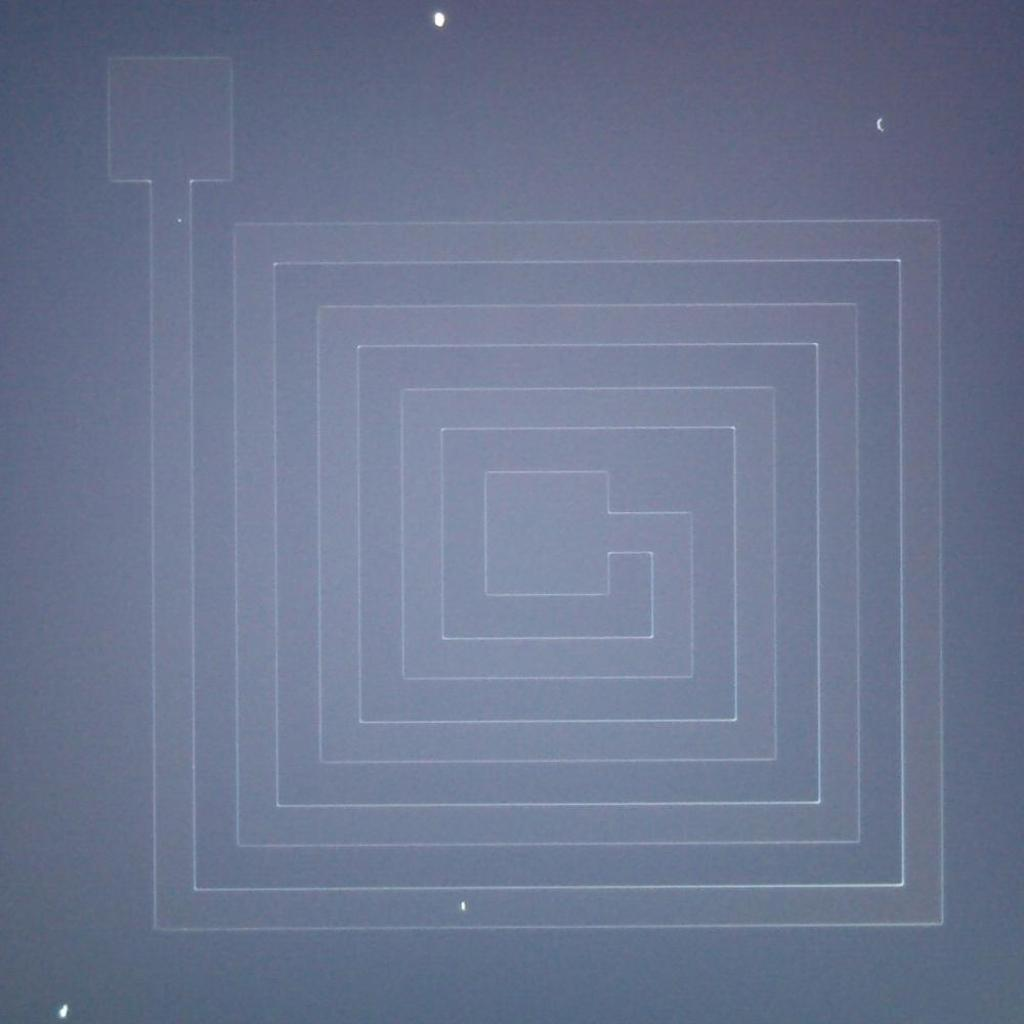Bdot: (431, 12, 448, 27)
dot: (57, 1004, 70, 1018), (874, 117, 886, 131), (460, 902, 466, 910), (178, 218, 182, 222)
